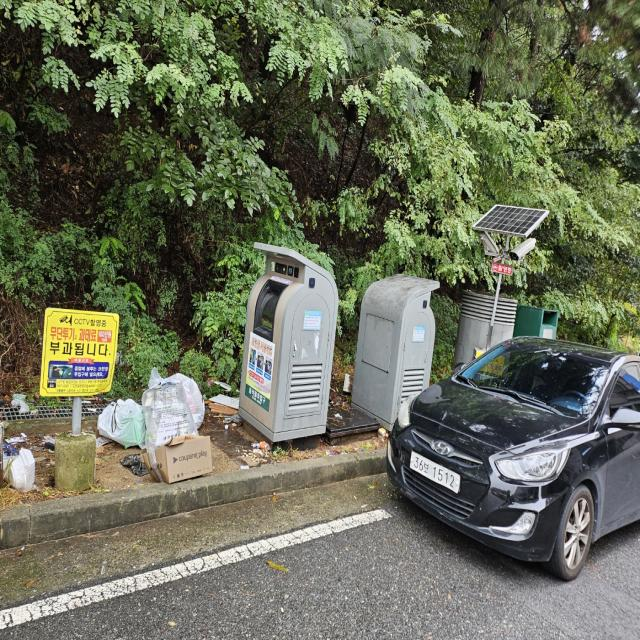CleanNet: (238, 235, 338, 445), (351, 266, 444, 433)
General Waste: (137, 367, 207, 452), (142, 430, 221, 488), (91, 395, 150, 456), (0, 432, 44, 503)
